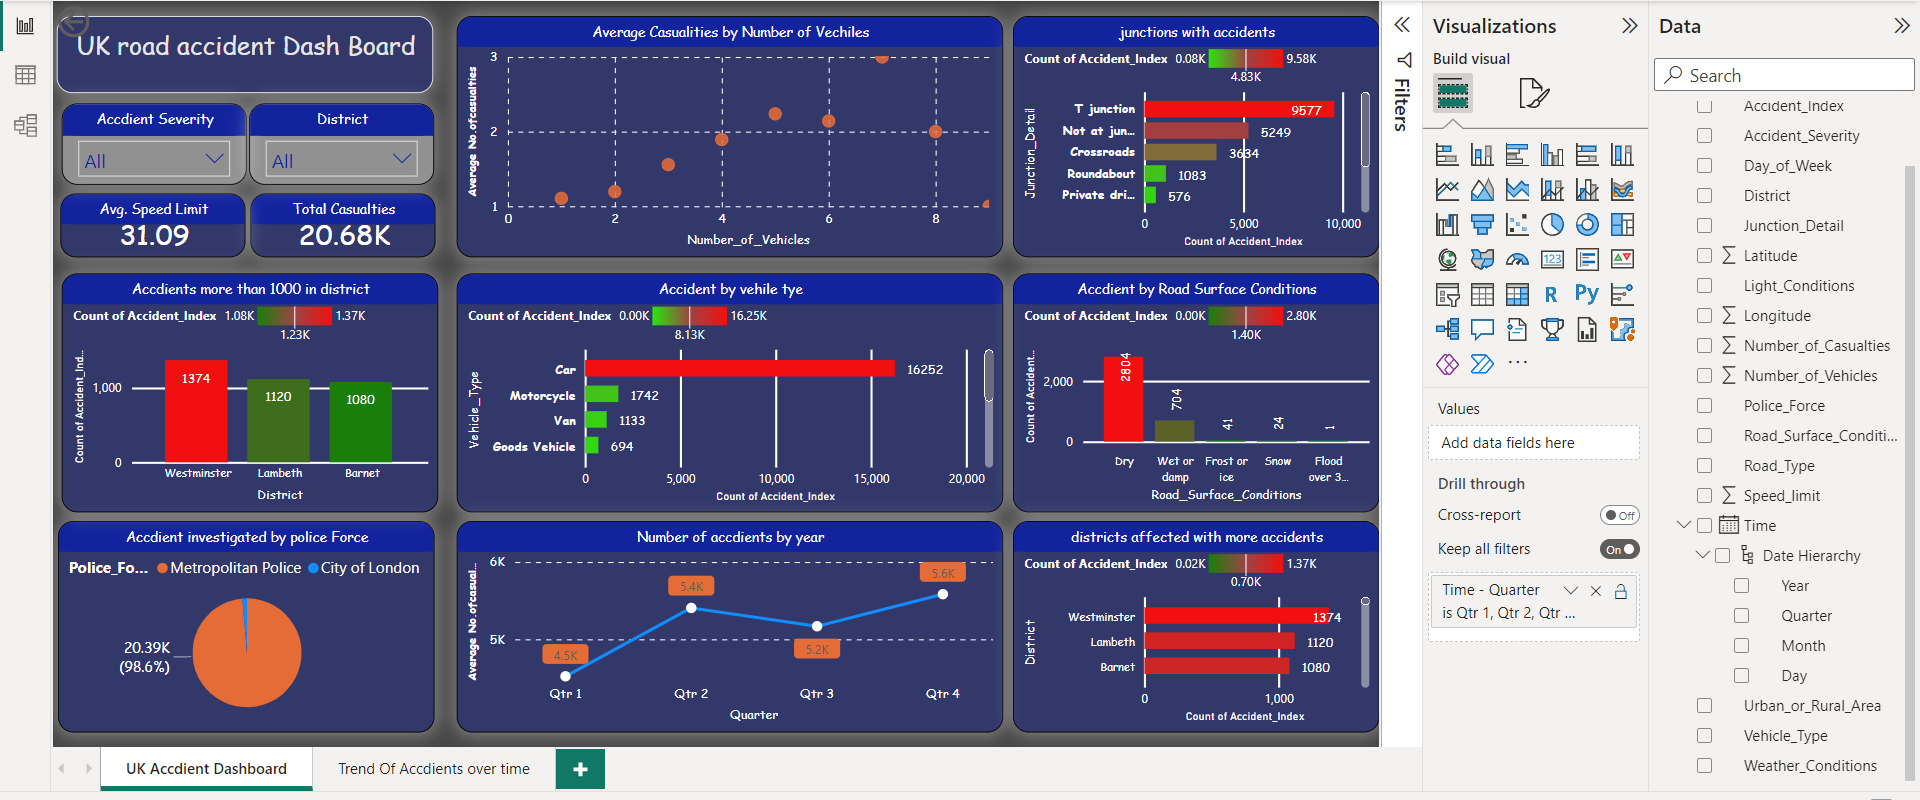

The dashboard page shown, as its layout file describes it:
{"tool":"powerbi","page":{"name":"UK Accdient Dashboard","canvas":[1280,720],"ordinal":0},"visuals":[{"type":"textbox","box":[3.6,14.5,363,74.8],"z":0},{"type":"card","title":"Total Casualties","fields":{"Values":["CountNonNull(Accident_details.Number_of_Casualties)"]},"box":[190.6,185.7,178.5,61.5],"z":1000},{"type":"card","title":"Avg. Speed Limit","fields":{"Values":["Avg(Accident_details.Speed_limit)"]},"box":[7.2,185.7,178.5,61.5],"z":2000},{"type":"pieChart","title":"Accdient investigated by police Force","fields":{"Category":["Accident_details.Police_Force"],"Y":["Count(Accident_details.Accident_Index)"]},"box":[4.8,501.7,366.6,205],"z":3000},{"type":"columnChart","title":"Accdients more than 1000 in district","fields":{"Category":["Accident_details.District"],"Y":["CountNonNull(Accident_details.Accident_Index)"]},"box":[8.4,262.9,363,205],"z":4000},{"type":"barChart","title":"Accident by vehile tye","fields":{"Category":["Accident_details.Vehicle_Type"],"Y":["CountNonNull(Accident_details.Accident_Index)"]},"box":[390.8,476.4,516.2,230.4],"z":5000},{"type":"scatterChart","title":"Average Casualities by Number of Vechiles","fields":{"X":["Accident_details.Number_of_Vehicles"],"Y":["Avg(Accident_details.Number_of_Casualties)"]},"box":[389.5,14.5,527,232.8],"z":6000},{"type":"lineChart","title":"Number of accdients by year","fields":{"Y":["Count(Accident_details.Accident_Index)"],"Category":["Accident_details.Accident Date.Variation.Date Hierarchy.Quarter"]},"box":[926.2,476.4,353.4,230.4],"z":7000},{"type":"actionButton","box":[0,0,100,40],"z":8000},{"type":"barChart","title":"junctions with accidents","fields":{"Category":["Accident_details.Junction_Detail"],"Y":["CountNonNull(Accident_details.Accident_Index)"]},"box":[926.2,14.5,353.4,232.8],"z":9000},{"type":"slicer","title":"Accdient Severity","fields":{"Values":["Accident_details.Accident_Severity"]},"box":[8.4,98.9,178.5,78.4],"z":10000},{"type":"slicer","title":"District","fields":{"Values":["Accident_details.District"]},"box":[189.3,98.9,178.5,78.4],"z":11000},{"type":"columnChart","title":"Accdient by Road Surface Conditions","fields":{"Category":["Accident_details.Road_Surface_Conditions"],"Y":["CountNonNull(Accident_details.Accident_Index)"]},"box":[926.2,262.9,353.4,205],"z":12000},{"type":"barChart","title":"districts affected with more accidents","fields":{"Category":["Accident_details.District"],"Y":["CountNonNull(Accident_details.Accident_Index)"]},"box":[389.9,262.6,517.3,205],"z":13000}]}

Visuals, with their boxes on the page's 1280x720 design canvas (x1, y1, x2, y2). These are canvas units, not pixel positions in the 1920x800 screenshot, which may show the page scaled, cropped or inside an application window:
textbox: locate(4, 14, 367, 89)
"Total Casualties" card: locate(191, 186, 369, 247)
"Avg. Speed Limit" card: locate(7, 186, 186, 247)
"Accdient investigated by police Force" pieChart: locate(5, 502, 371, 707)
"Accdients more than 1000 in district" columnChart: locate(8, 263, 371, 468)
"Accident by vehile tye" barChart: locate(391, 476, 907, 707)
"Average Casualities by Number of Vechiles" scatterChart: locate(390, 14, 916, 247)
"Number of accdients by year" lineChart: locate(926, 476, 1280, 707)
actionButton: locate(0, 0, 100, 40)
"junctions with accidents" barChart: locate(926, 14, 1280, 247)
"Accdient Severity" slicer: locate(8, 99, 187, 177)
"District" slicer: locate(189, 99, 368, 177)
"Accdient by Road Surface Conditions" columnChart: locate(926, 263, 1280, 468)
"districts affected with more accidents" barChart: locate(390, 263, 907, 468)
